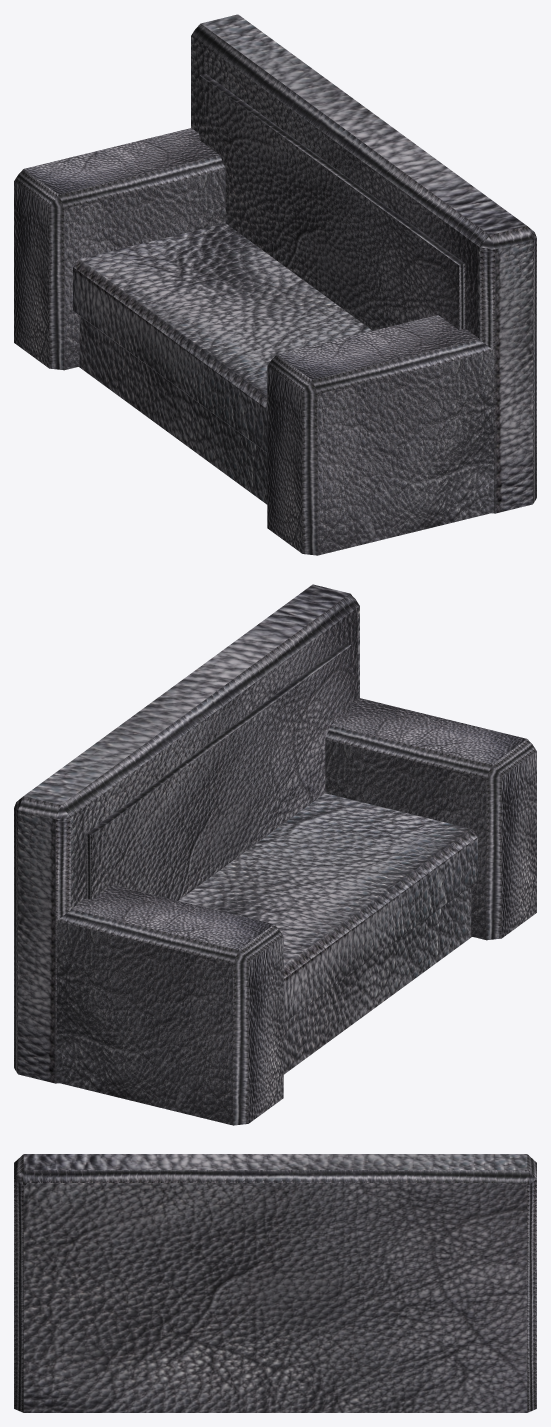
The model's file is CouchTextured.fbx.
The picture shows the model from 3 angles, top to bottom: view 1: azimuth 30°, elevation 25°; view 2: azimuth 150°, elevation 25°; view 3: azimuth 270°, elevation 25°; orthographic projection. The views are drawn at different scales.
Parts seen in each view (by area): view 1: Back, Armrest, Seat, Armrest_1; view 2: Back, Armrest_1, Seat, Armrest; view 3: Back.
Boxes of the visible parts, box(x1,y1,x2,y2) form: Back: box(191, 14, 536, 513); Armrest: box(267, 315, 494, 555); Seat: box(73, 223, 372, 504); Armrest_1: box(14, 128, 225, 370); Back: box(14, 584, 359, 1083); Armrest_1: box(56, 885, 283, 1125); Seat: box(178, 793, 477, 1074); Armrest: box(325, 698, 536, 940); Back: box(14, 1154, 536, 1412).
Bounding box in the file's own units: 364 × 408 × 809.
1 material, 1 textured.
